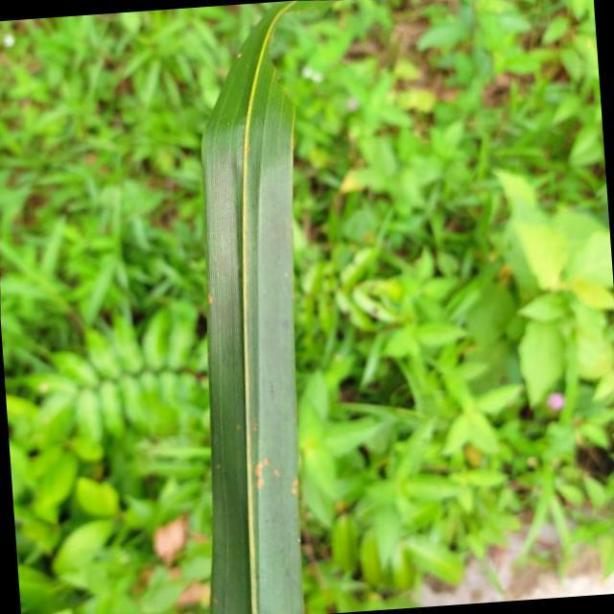Boron: (191, 0, 298, 614)
